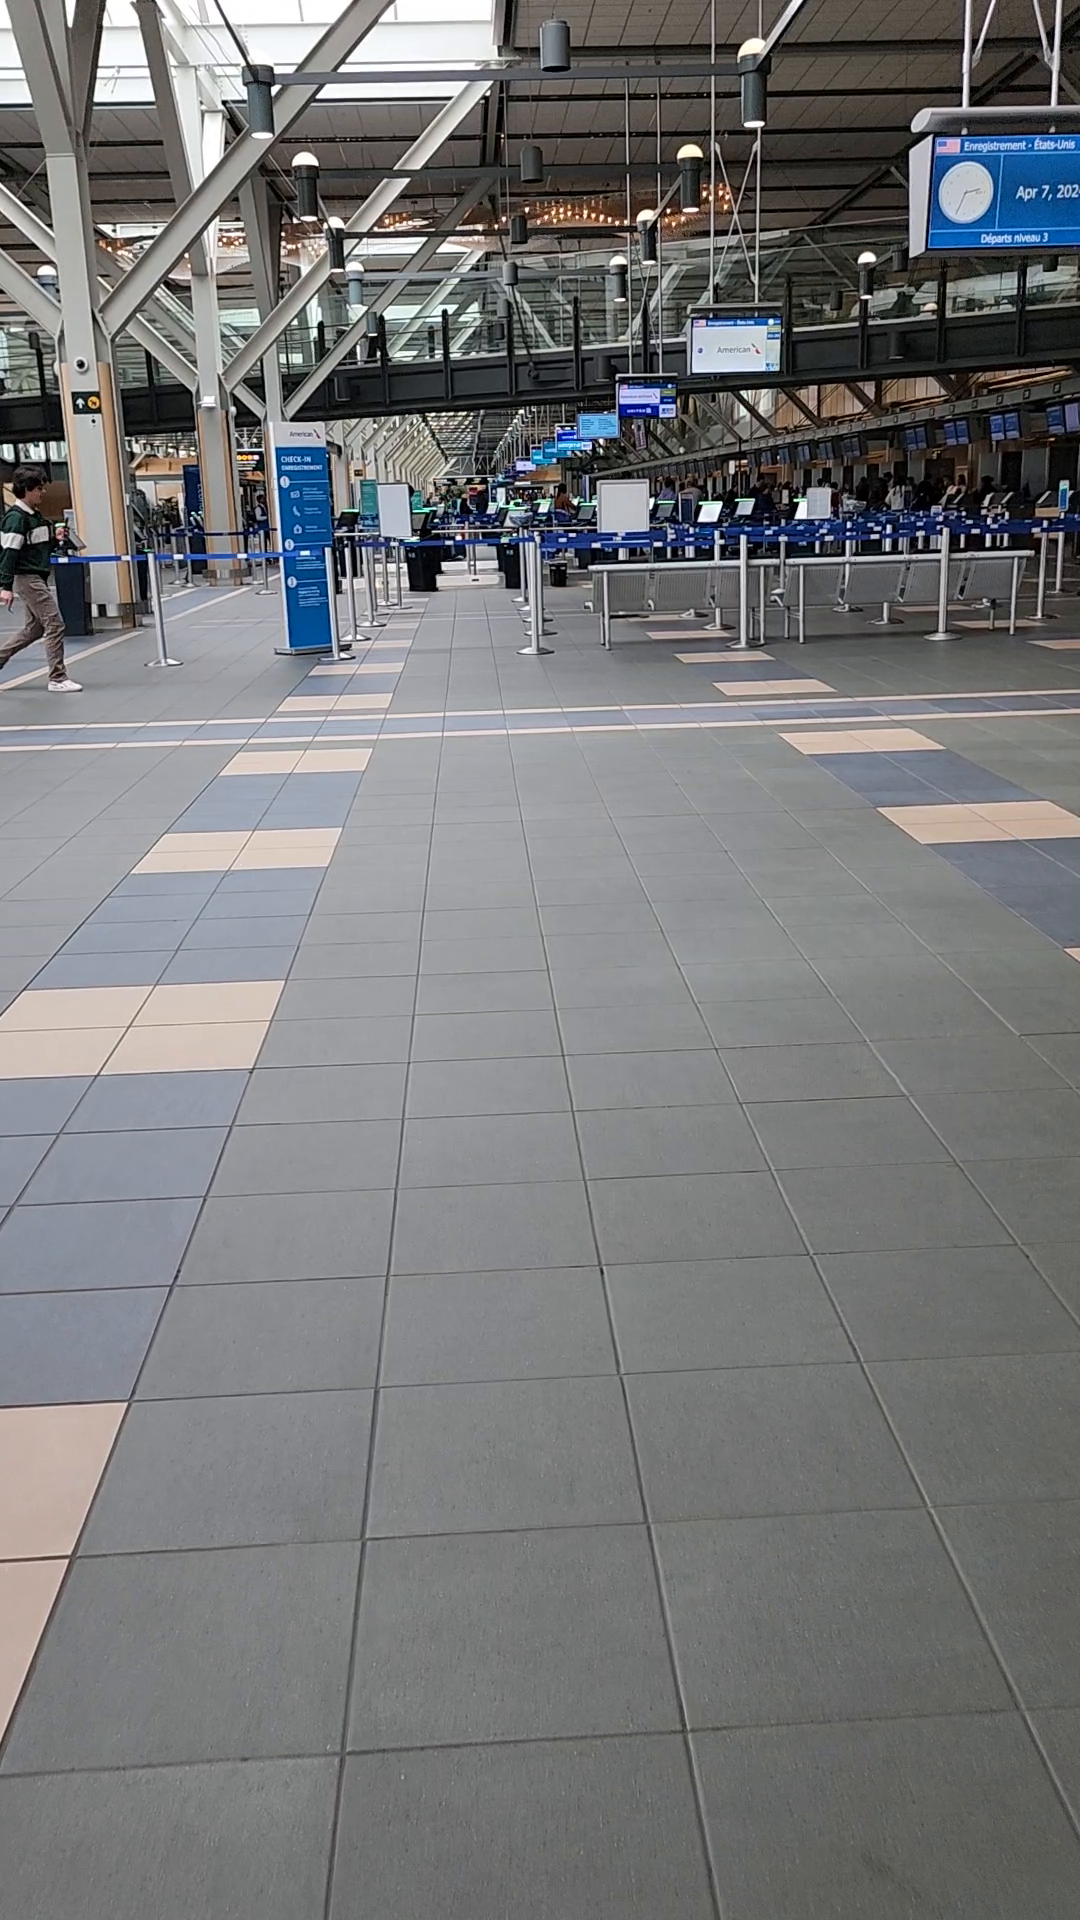Stain: (848, 1837, 957, 1919)
